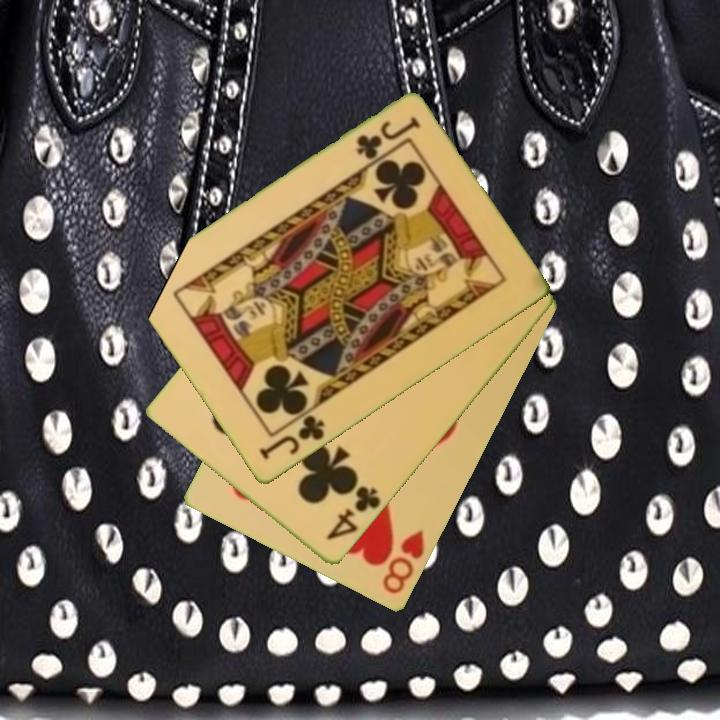4c: (323, 483, 384, 545)
8h: (379, 527, 428, 598)
Jc: (255, 412, 328, 464), (352, 113, 423, 163)
